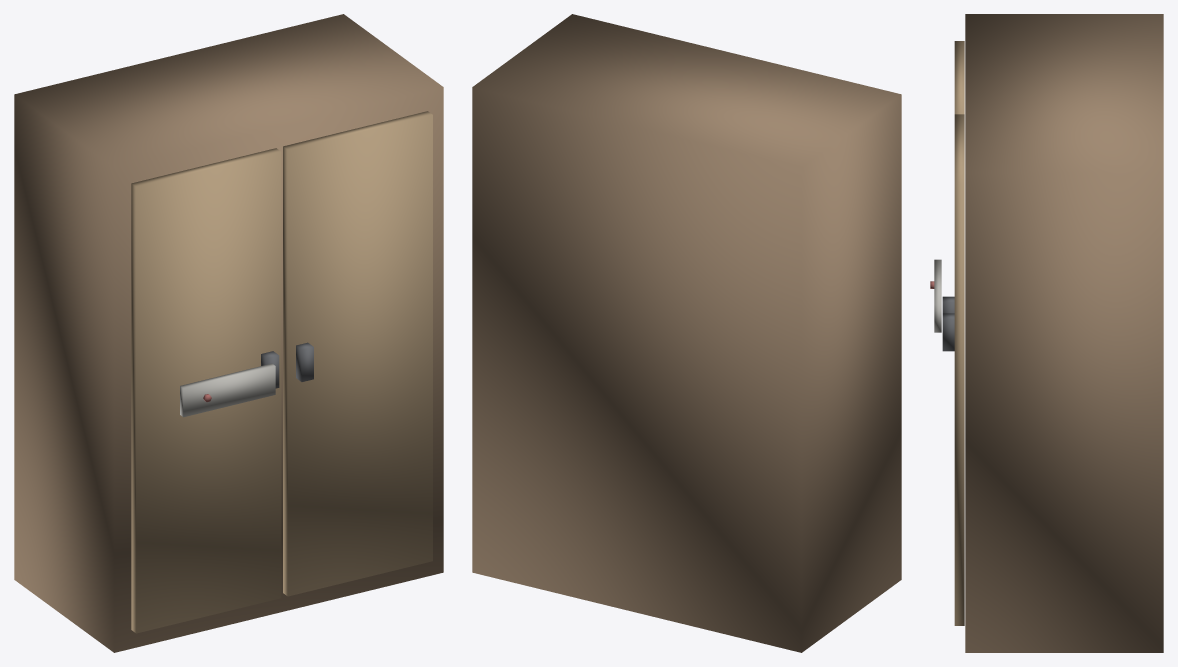
File: case_file_cabinet__reinforced.glb
3 renders of one model, left to right at view 1: azimuth 30°, elevation 25°; view 2: azimuth 150°, elevation 25°; view 3: azimuth 270°, elevation 25°, orthographic.
Visible parts, largest first — view 1: world; view 2: world; view 3: world.
Part boxes in pixels (x1,y1,x2,y2): world: (14,14,443,652); world: (472,14,901,652); world: (930,14,1163,652).
Bounding box in the file's own units: 0.9785 × 1.38 × 0.6062.
